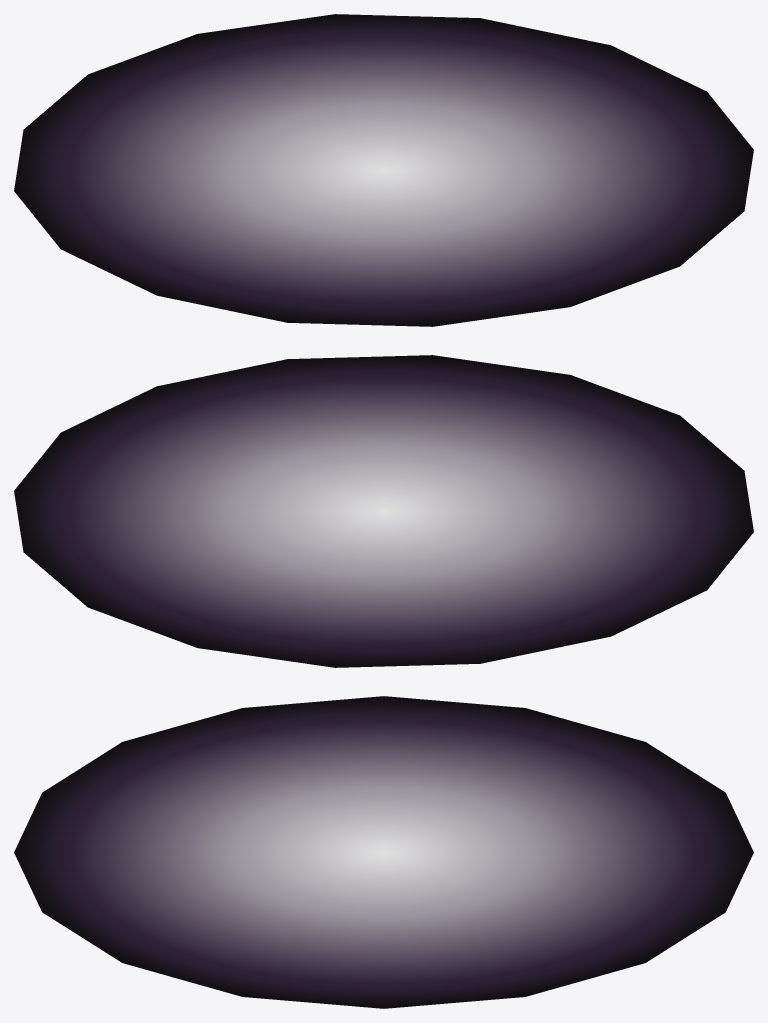
File: battlefield.fbx
The picture shows the model from 3 angles, top to bottom: view 1: azimuth 30°, elevation 25°; view 2: azimuth 150°, elevation 25°; view 3: azimuth 270°, elevation 25°; orthographic projection.
Parts seen in each view (by area): view 1: Circle; view 2: Circle; view 3: Circle.
Part boxes in pixels (x1=…): Circle: x1=14, y1=14, x2=753, y2=326; Circle: x1=14, y1=355, x2=753, y2=667; Circle: x1=14, y1=696, x2=753, y2=1008.
Size of the model in its own units: 1000 by 0.000163 by 1000.
Materials: 1 (1 with a texture image).
